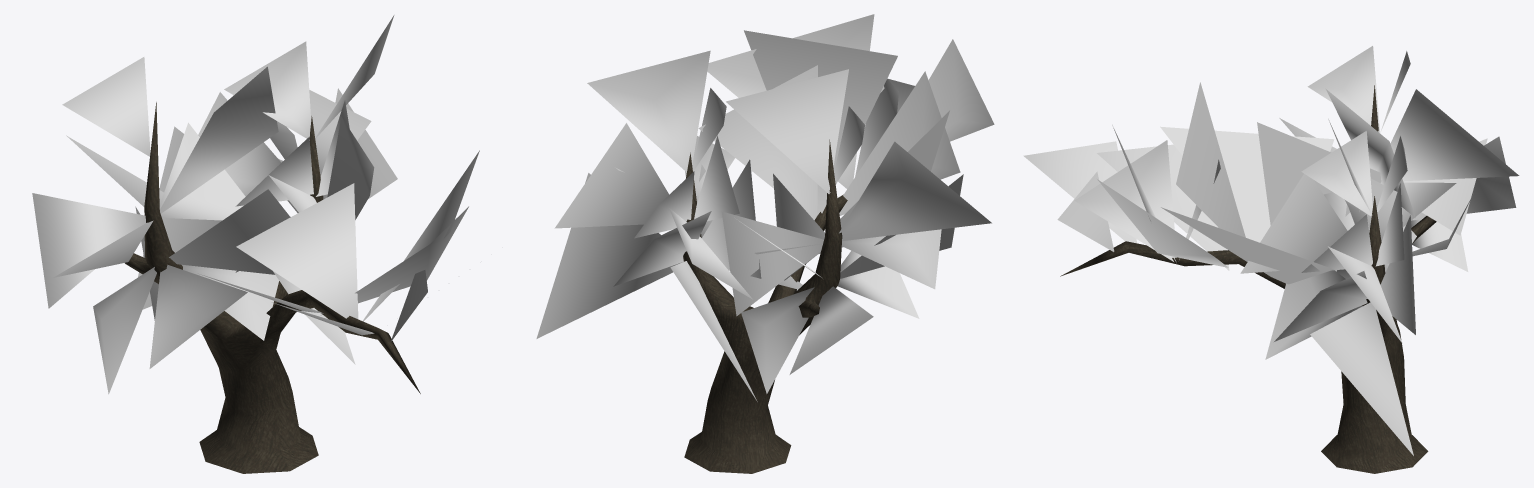
The model's file is sakuraPine_LOD70.glb.
3 views of the same model, side by side, from view 1: azimuth 30°, elevation 25°; view 2: azimuth 150°, elevation 25°; view 3: azimuth 270°, elevation 25° (orthographic). The views are drawn at different scales.
Visible parts, largest first — view 1: sakura_leaves.jpg__, tree_zen.jpg__; view 2: sakura_leaves.jpg__, tree_zen.jpg__; view 3: sakura_leaves.jpg__, tree_zen.jpg__.
Part boxes in pixels (box(x1,y1,x2,y2)): sakura_leaves.jpg__: box(32, 15, 479, 394); tree_zen.jpg__: box(125, 102, 420, 473); sakura_leaves.jpg__: box(536, 14, 994, 401); tree_zen.jpg__: box(683, 139, 847, 473); sakura_leaves.jpg__: box(1023, 46, 1519, 455); tree_zen.jpg__: box(1060, 85, 1436, 473).
Bounding box in the file's own units: 16.3 × 14.95 × 17.85.
2 materials, 1 textured.
